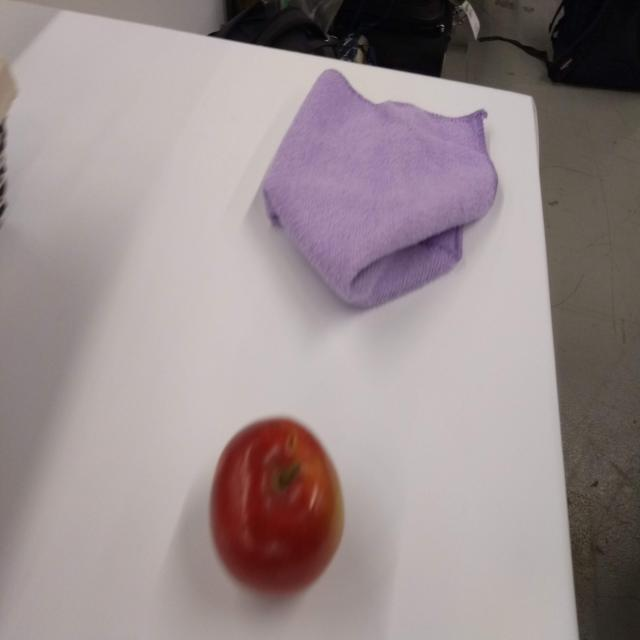apple: (207, 413, 353, 597)
cloth_opl: (256, 63, 504, 322)
